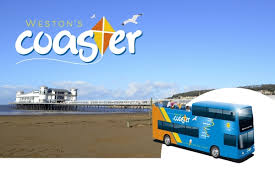bus: (150, 98, 255, 164)
